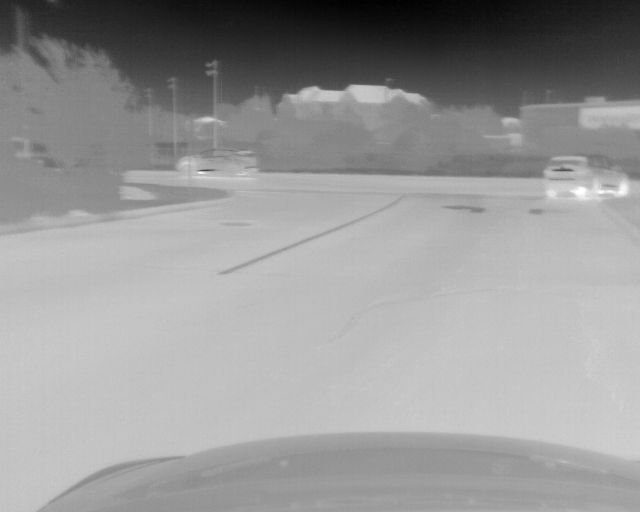car: (541, 152, 632, 202), (175, 146, 261, 180)
